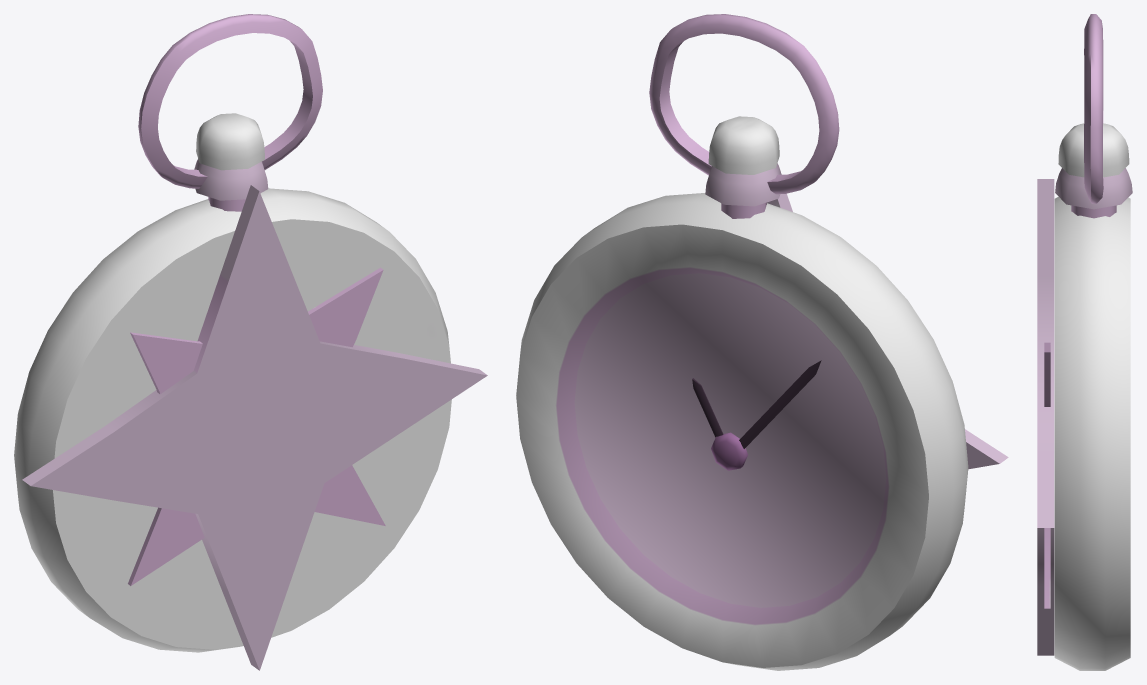
The model's file is RelojBolsilloCortes.fbx.
The picture shows the model from 3 angles, left to right: view 1: azimuth 30°, elevation 25°; view 2: azimuth 150°, elevation 25°; view 3: azimuth 270°, elevation 25°; orthographic projection. The views are drawn at different scales.
Visible parts, largest first — view 1: Star.001, Circle.005, Cylinder.004, Cylinder.003; view 2: Star.001, Circle.005, Cylinder.004, Cylinder.003, Plane.003, Cylinder.005; view 3: Star.001, Circle.005, Cylinder.004, Cylinder.003, Cylinder.002.
Part boxes in pixels (x1,y1,x2,y2): Star.001: (14,185,487,670); Circle.005: (138,14,322,188); Cylinder.004: (196,113,264,170); Cylinder.003: (194,159,268,200); Star.001: (516,193,1008,670); Circle.005: (649,14,839,194); Cylinder.004: (708,116,779,174); Cylinder.003: (705,163,781,206); Plane.003: (692,360,821,448); Cylinder.005: (711,432,747,470); Star.001: (1037,179,1130,670); Circle.005: (1084,14,1103,203); Cylinder.004: (1058,123,1129,177); Cylinder.003: (1055,168,1132,209); Cylinder.002: (1071,205,1116,218).
Bounding box in the file's own units: 94.69 × 125 × 17.24.
